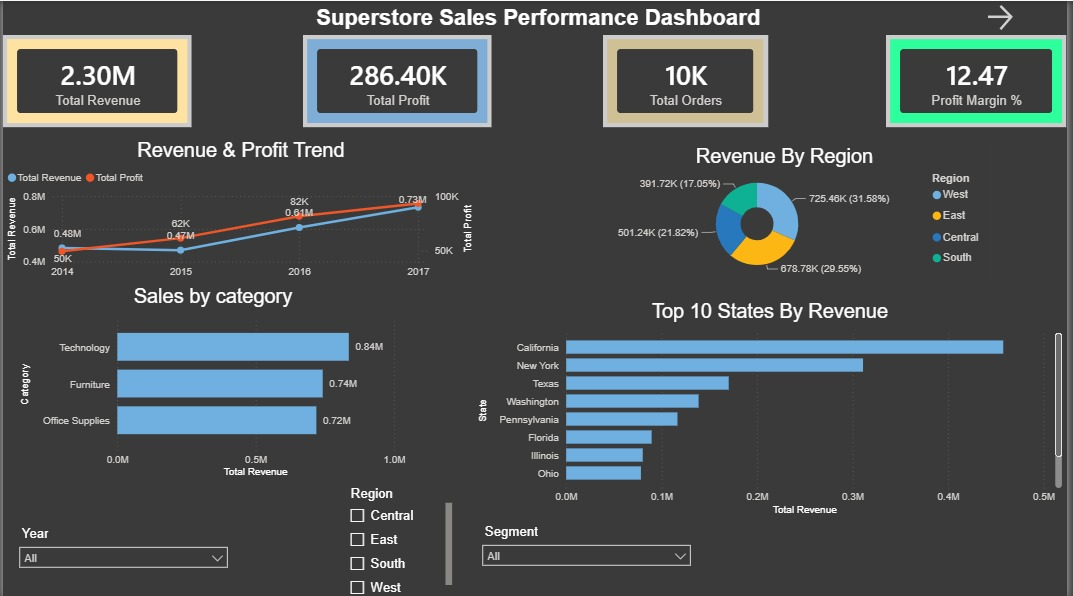

What the dashboard file says about the page in this screenshot:
{"tool":"powerbi","page":{"name":"Sales Overview","canvas":[1280,720],"ordinal":0},"visuals":[{"type":"textbox","box":[10,0,1270,41.4],"z":0},{"type":"cardVisual","fields":{"Data":["Sample - Superstore.Total Revenue"]},"box":[0,41.4,227.1,111.4],"z":1000},{"type":"cardVisual","fields":{"Data":["Sample - Superstore.Total Profit"]},"box":[361.4,41.4,227.1,111.4],"z":2000},{"type":"cardVisual","fields":{"Data":["Sample - Superstore.Total Orders"]},"box":[722.9,41.4,198.6,111.4],"z":3000},{"type":"cardVisual","fields":{"Data":["Sample - Superstore.Profit Margin %"]},"box":[1062.9,41.4,217.1,111.4],"z":4000},{"type":"lineChart","title":"Revenue & Profit Trend","fields":{"Y":["Sample - Superstore.Total Revenue"],"Category":["Sample - Superstore.Order Date.Variation.Date Hierarchy.Year"],"Y2":["Sample - Superstore.Total Profit"]},"box":[0,165.7,572.9,175.7],"z":5000},{"type":"donutChart","title":"Revenue By Region","fields":{"Category":["Sample - Superstore.Region"],"Y":["Sample - Superstore.Total Revenue"]},"box":[692.9,172.9,497.1,162.9],"z":6000},{"type":"clusteredBarChart","title":"Sales by category","fields":{"Y":["Sample - Superstore.Total Revenue"],"Category":["Sample - Superstore.Category"]},"box":[15.7,341.4,474.3,237.1],"z":7000},{"type":"clusteredBarChart","title":"Top 10 States By Revenue","fields":{"Y":["Sample - Superstore.Total Revenue"],"Category":["Sample - Superstore.State"]},"box":[567.1,360,712.9,264.3],"z":8000},{"type":"slicer","fields":{"Values":["Sample - Superstore.Order Date.Variation.Date Hierarchy.Year"]},"box":[10,627.1,271.4,92.9],"z":9000},{"type":"slicer","fields":{"Values":["Sample - Superstore.Region"]},"box":[405.7,578.6,140,141.4],"z":10000},{"type":"slicer","fields":{"Values":["Sample - Superstore.Segment"]},"box":[567.1,624.3,271.4,72.9],"z":11000},{"type":"actionButton","box":[1180,0,100,40],"z":12000}]}

Visuals, with their boxes in screenshot pixels (x1, y1, x2, y2), scaled from the page's 1280x720 canvas onto the 1073x596 screenshot:
textbox: 8:0:1072:34
cardVisual - Sample - Superstore.Total Revenue: 0:34:190:126
cardVisual - Sample - Superstore.Total Profit: 303:34:493:126
cardVisual - Sample - Superstore.Total Orders: 606:34:772:126
cardVisual - Sample - Superstore.Profit Margin %: 891:34:1072:126
"Revenue & Profit Trend" lineChart: 0:137:480:283
"Revenue By Region" donutChart: 581:143:998:278
"Sales by category" clusteredBarChart: 13:283:411:479
"Top 10 States By Revenue" clusteredBarChart: 475:298:1072:517
slicer - Sample - Superstore.Order Date.Variation.Date Hierarchy.Year: 8:519:236:595
slicer - Sample - Superstore.Region: 340:479:457:595
slicer - Sample - Superstore.Segment: 475:517:703:577
actionButton: 989:0:1072:33
